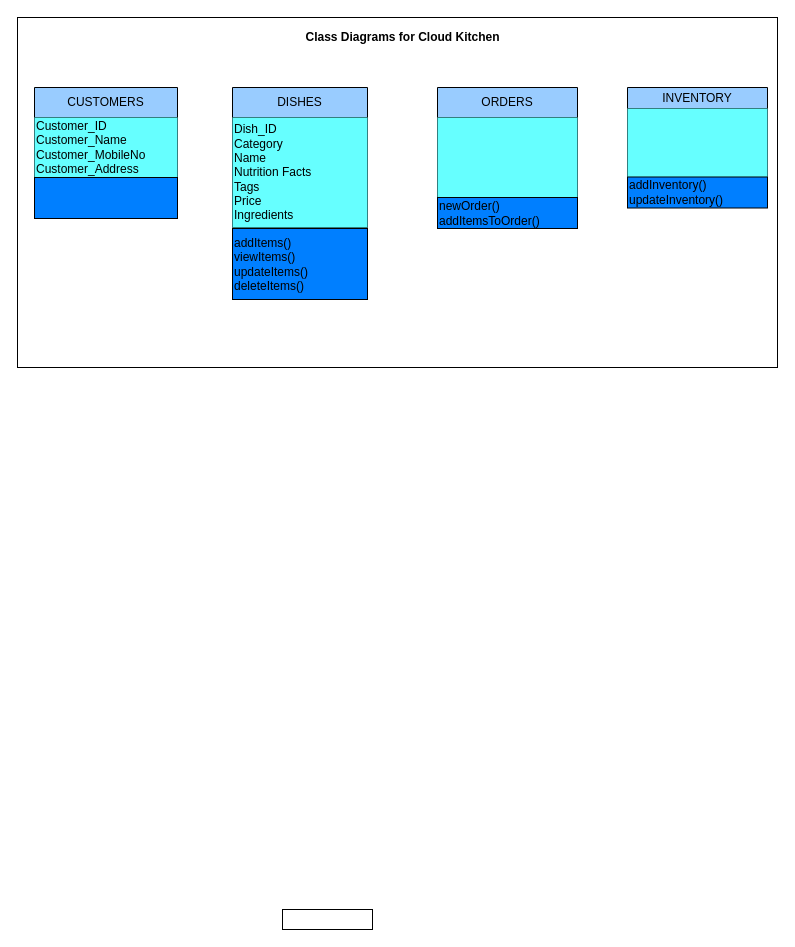
This 795x947 diagram has some shape labels left out. Here are the shapes that lost their labels. From the top down, the centre of each, then its label:
the point at 507,157: Order_ID Customer_ID OrderDate Dishes_Ordered Total Bill
the point at 697,143: Ingredient_ID Name Quantity
the point at 106,197: register() login()
the point at 327,919: INDREDIENTS
